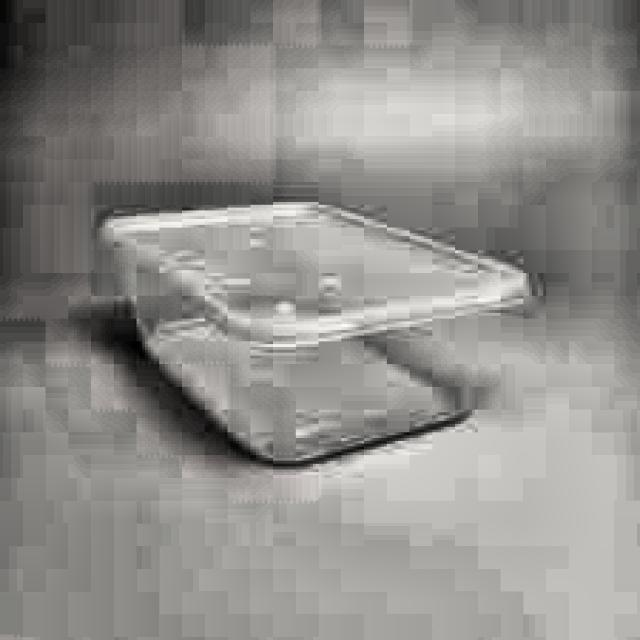plastic container: (109, 205, 529, 464)
